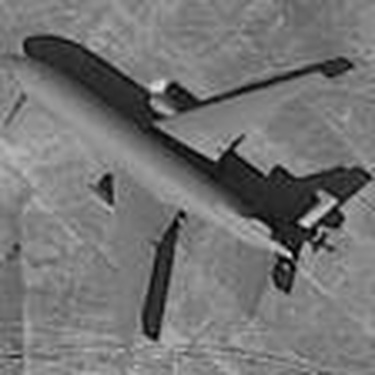airplane: (4, 10, 359, 359)
